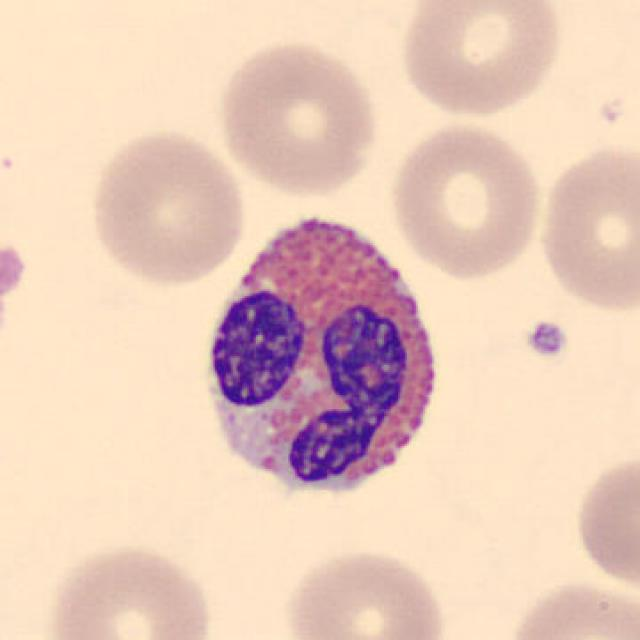Eosinophil: (187, 190, 457, 522)
Platelets: (521, 318, 571, 362)
RBC: (84, 125, 250, 289), (214, 36, 382, 198), (386, 118, 548, 282), (395, 0, 567, 122), (534, 136, 638, 316), (41, 539, 219, 640), (278, 545, 452, 640), (569, 448, 640, 596), (500, 575, 638, 640)
